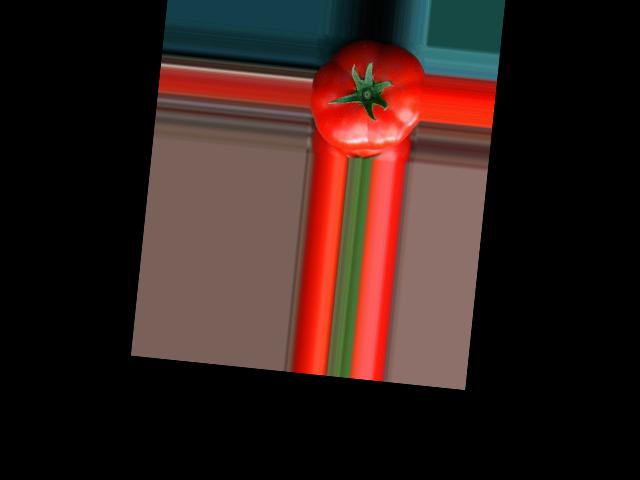tomato: (304, 34, 427, 157)
